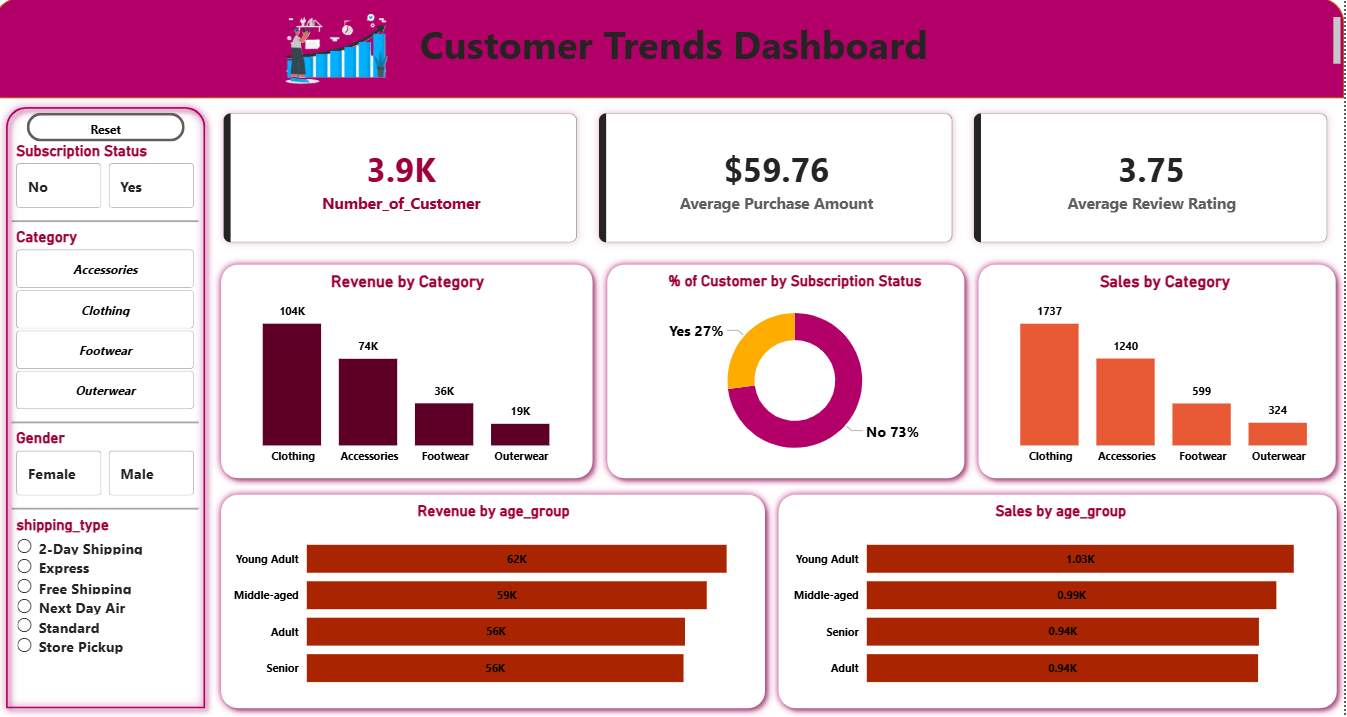

What the dashboard file says about the page in this screenshot:
{"tool":"powerbi","page":{"name":"Page 1","canvas":[1500,820],"ordinal":0},"visuals":[{"type":"cardVisual","fields":{"Data":["customer_behavior customer.Number_of_Customer","customer_behavior customer.Average Purchase Amount","customer_behavior customer.Average Review Rating"]},"box":[236,128,1264,176],"z":0},{"type":"shape","box":[-4,16,1504,112],"z":1000},{"type":"textbox","box":[12,32,1488,64],"z":2000},{"type":"shape","box":[240,304,432,256],"z":3000},{"type":"clusteredColumnChart","title":"Revenue by Category","fields":{"Category":["customer_behavior customer.category"],"Y":["Sum(customer_behavior customer.purchase_amount)"]},"box":[256,320,400,224],"z":4000},{"type":"shape","box":[670,304,416,256],"z":4500},{"type":"shape","box":[1084,304,416,256],"z":5000},{"type":"donutChart","title":"% of Customer by  Subscription Status ","fields":{"Y":["CountNonNull(customer_behavior customer.customer_id)"],"Category":["customer_behavior customer.subscription_status"]},"box":[688,320,400,224],"z":5001},{"type":"clusteredColumnChart","title":"Sales by Category","fields":{"Category":["customer_behavior customer.category"],"Y":["CountNonNull(customer_behavior customer.customer_id)"]},"box":[1100,320,400,224],"z":5002},{"type":"shape","box":[0,128,240,688],"z":5003},{"type":"advancedSlicerVisual","title":"Subscription Status","fields":{"Values":["customer_behavior customer.subscription_status"]},"box":[16,176,208,80],"z":5004},{"type":"advancedSlicerVisual","title":"Gender","fields":{"Values":["customer_behavior customer.gender"]},"box":[16,496,208,80],"z":5005},{"type":"advancedSlicerVisual","title":"Category","fields":{"Values":["customer_behavior customer.category"]},"box":[16,272,208,208],"z":5006},{"type":"listSlicer","fields":{"Values":["customer_behavior customer.shipping_type"]},"box":[16,592,208,208],"z":5007},{"type":"shape","box":[240,560,624,256],"z":5008},{"type":"shape","box":[860,560,640,256],"z":5009},{"type":"clusteredBarChart","title":"Revenue by age_group","fields":{"Y":["Sum(customer_behavior customer.purchase_amount)"],"Category":["customer_behavior customer.age_group"]},"box":[256,576,592,224],"z":5010},{"type":"clusteredBarChart","title":"Sales by age_group","fields":{"Y":["CountNonNull(customer_behavior customer.customer_id)"],"Category":["customer_behavior customer.age_group"]},"box":[880,576,608,224],"z":5011},{"type":"actionButton","title":"R","box":[32,144,176,32],"z":5012},{"type":"shape","box":[16,256,208,16],"z":5013},{"type":"shape","box":[16,480,208,16],"z":5014},{"type":"shape","box":[16,576,208,16],"z":5015},{"type":"image","box":[304,32,144,80],"z":5016}]}

Visuals, with their boxes in screenshot pixels (x1, y1, x2, y2), scaled from the page's 1500x820 canvas onto the 1347x717 screenshot:
cardVisual - customer_behavior customer.Number_of_Customer x customer_behavior customer.Average Purchase Amount: [x1=212, y1=112, x2=1346, y2=266]
shape: [x1=0, y1=14, x2=1346, y2=112]
textbox: [x1=11, y1=28, x2=1346, y2=84]
shape: [x1=216, y1=266, x2=603, y2=490]
"Revenue by Category" clusteredColumnChart: [x1=230, y1=280, x2=589, y2=476]
shape: [x1=602, y1=266, x2=975, y2=490]
shape: [x1=973, y1=266, x2=1346, y2=490]
"% of Customer by  Subscription Status " donutChart: [x1=618, y1=280, x2=977, y2=476]
"Sales by Category" clusteredColumnChart: [x1=988, y1=280, x2=1346, y2=476]
shape: [x1=0, y1=112, x2=216, y2=714]
"Subscription Status" advancedSlicerVisual: [x1=14, y1=154, x2=201, y2=224]
"Gender" advancedSlicerVisual: [x1=14, y1=434, x2=201, y2=504]
"Category" advancedSlicerVisual: [x1=14, y1=238, x2=201, y2=420]
listSlicer - customer_behavior customer.shipping_type: [x1=14, y1=518, x2=201, y2=700]
shape: [x1=216, y1=490, x2=776, y2=714]
shape: [x1=772, y1=490, x2=1346, y2=714]
"Revenue by age_group" clusteredBarChart: [x1=230, y1=504, x2=762, y2=700]
"Sales by age_group" clusteredBarChart: [x1=790, y1=504, x2=1336, y2=700]
"R" actionButton: [x1=29, y1=126, x2=187, y2=154]
shape: [x1=14, y1=224, x2=201, y2=238]
shape: [x1=14, y1=420, x2=201, y2=434]
shape: [x1=14, y1=504, x2=201, y2=518]
image: [x1=273, y1=28, x2=402, y2=98]
